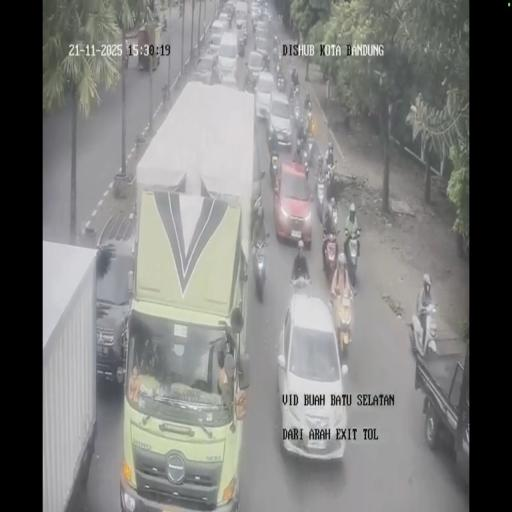car: (276, 293, 346, 461), (274, 158, 312, 247), (268, 89, 293, 149), (210, 19, 227, 52), (255, 13, 271, 39), (250, 0, 262, 18), (240, 20, 248, 45)
motorcycle: (334, 290, 354, 356), (251, 232, 267, 300), (322, 228, 340, 282), (344, 228, 361, 285), (326, 163, 338, 204), (315, 175, 326, 216), (296, 123, 308, 159), (300, 150, 310, 183), (244, 68, 257, 92), (304, 109, 314, 140), (276, 67, 285, 92), (293, 102, 301, 126), (288, 82, 296, 102), (262, 52, 270, 71), (304, 94, 312, 112), (272, 45, 278, 66), (288, 57, 294, 75), (252, 18, 258, 33), (277, 14, 282, 27), (178, 4, 182, 18)
truck: (119, 142, 254, 508)
